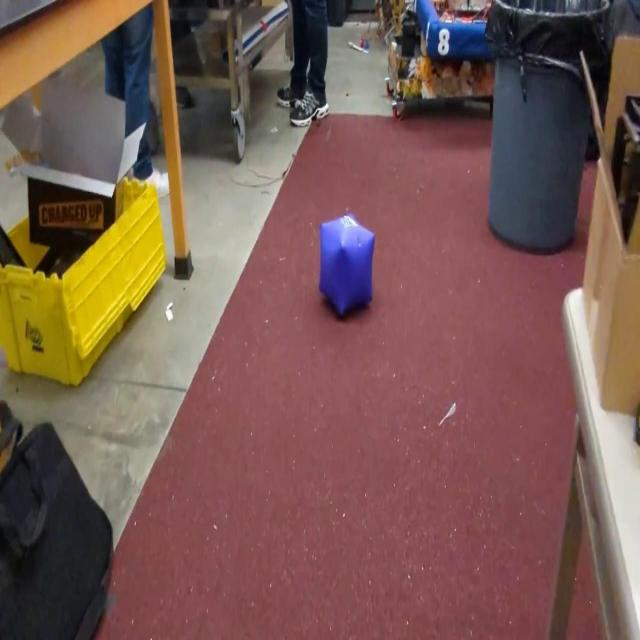frc_cube: (317, 212, 377, 318)
